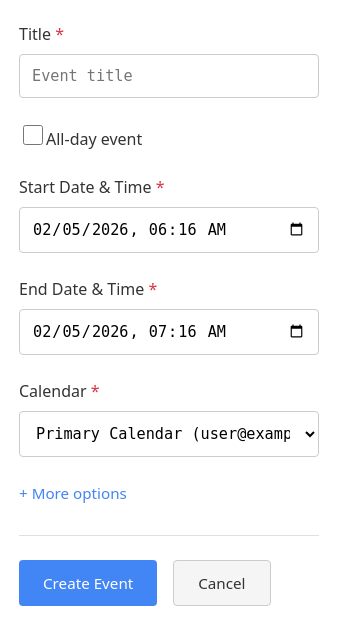
EventForm Component › Form Validation - Required Fields › should show end date/time is required error
This screenshot has width=339, height=636.
# Clear auto-filled end date and fill title/start
Clear the field labelled "End Date & Time *" at (169, 332), box [19,309,319,355]
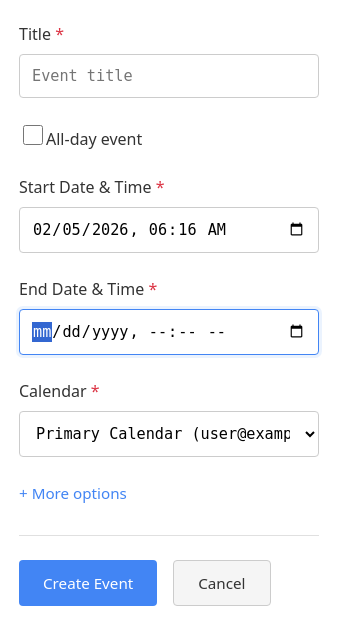
Type "Test Event" into the field labelled "Title *" at (169, 76), box [19,54,319,98]
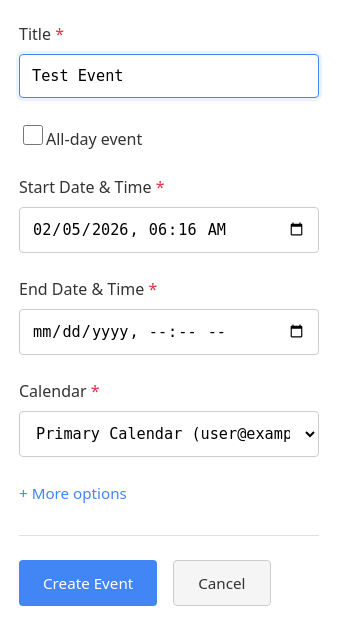
# Try to submit
Click the button "Create Event" at (88, 583), box [19,560,157,606]
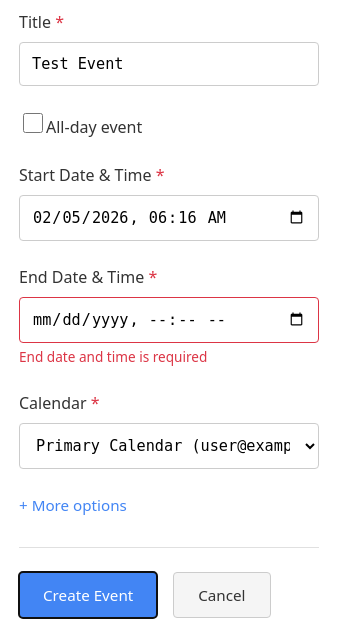
Expected: the text "End date and time is required" is shown, [19,347,207,366]
